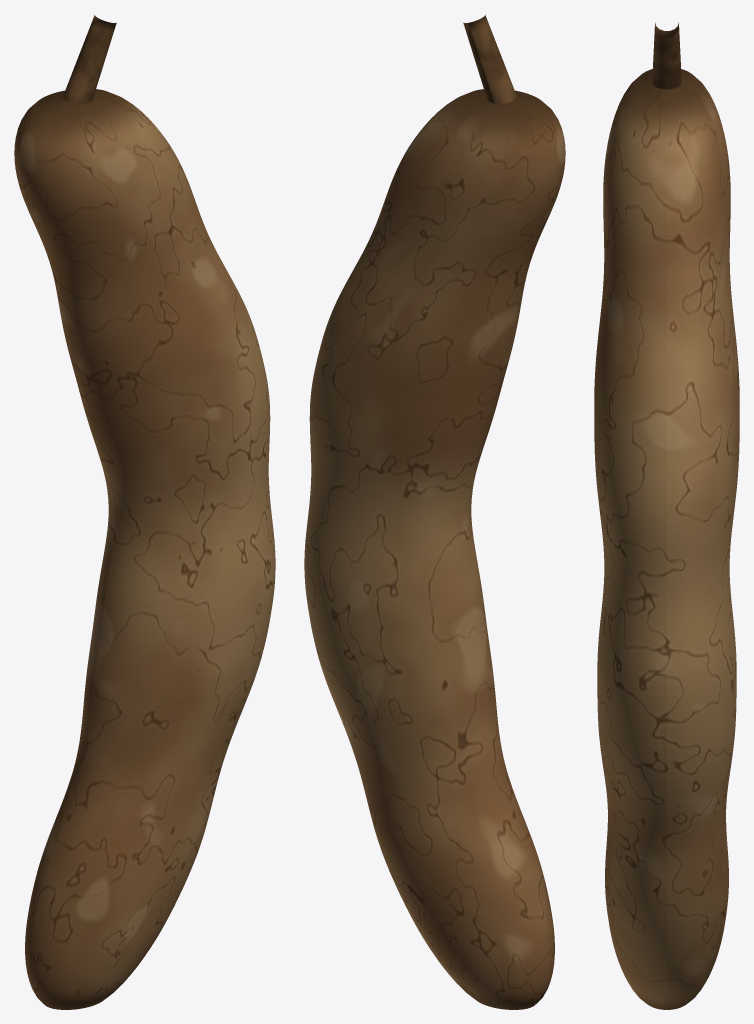
The model's file is tamarin.glb.
The picture shows the model from 3 angles, left to right: view 1: azimuth 30°, elevation 25°; view 2: azimuth 150°, elevation 25°; view 3: azimuth 270°, elevation 25°; orthographic projection.
Visible parts, largest first — view 1: moitie_A_peau, moitie_B_peau, entier_extra0; view 2: moitie_B_peau, moitie_A_peau, entier_extra0; view 3: moitie_A_peau, moitie_B_peau, entier_extra0.
Boxes of the visible parts, box(x1,y1,x2,y2) form: moitie_A_peau: box(20, 94, 275, 1009); moitie_B_peau: box(14, 89, 122, 1003); entier_extra0: box(63, 15, 116, 104); moitie_B_peau: box(304, 94, 559, 1009); moitie_A_peau: box(457, 89, 565, 1003); entier_extra0: box(463, 15, 516, 104); moitie_A_peau: box(594, 69, 666, 1009); moitie_B_peau: box(667, 69, 739, 1009); entier_extra0: box(652, 23, 681, 89).
Size of the model in its own units: 0.0343 by 0.1296 by 0.0171.
3 materials, 3 textured.
